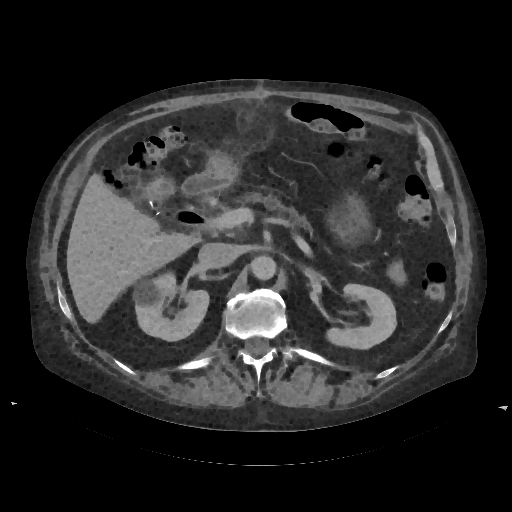Lesion: (129, 274, 163, 311)
